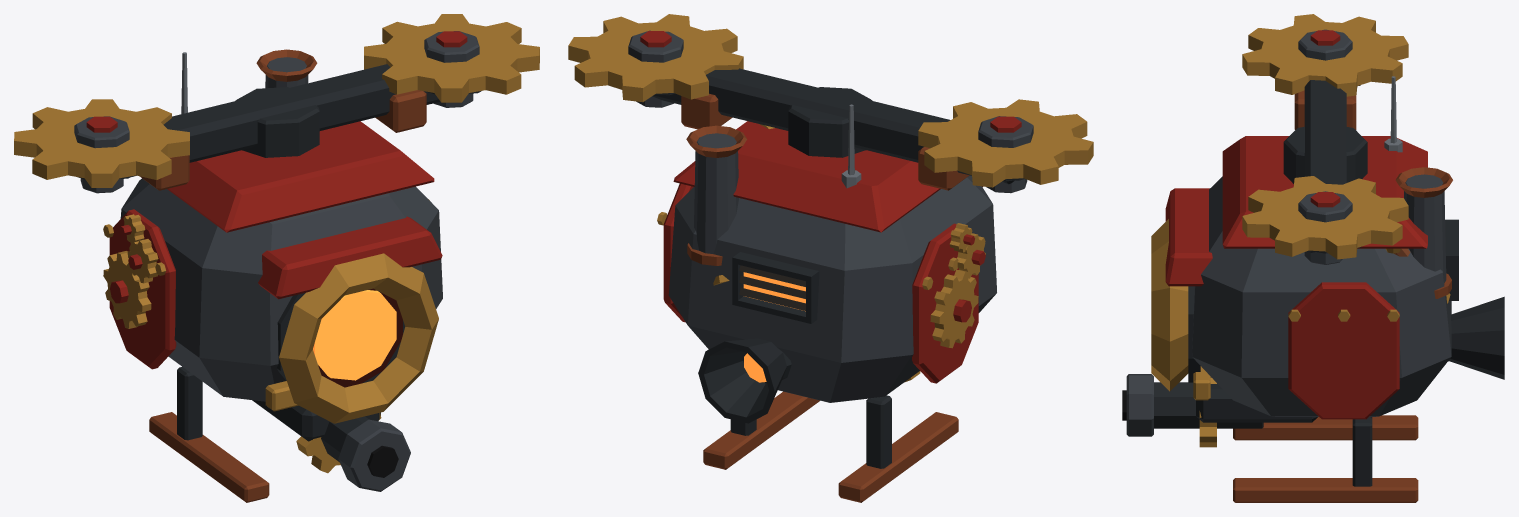
Rendered from gnat_cog.fbx.
The picture shows the model from 3 angles, left to right: view 1: azimuth 30°, elevation 25°; view 2: azimuth 150°, elevation 25°; view 3: azimuth 270°, elevation 25°; orthographic projection. The views are drawn at different scales.
Visible parts, largest first — view 1: Body, RotorR, RotorL, Eye; view 2: Body, RotorR, RotorL, Glow; view 3: Body, RotorL, RotorR.
Boxes of the visible parts, x1,y1,x2,y2 form: Body: (80, 49, 473, 502); RotorR: (14, 99, 189, 187); RotorL: (364, 14, 539, 102); Eye: (313, 290, 396, 380); Body: (636, 68, 1027, 502); RotorR: (918, 99, 1093, 187); RotorL: (568, 14, 743, 102); Glow: (743, 272, 805, 382); Body: (1122, 76, 1504, 502); RotorL: (1242, 176, 1408, 259); RotorR: (1242, 14, 1408, 96).
Size of the model in its own units: 4.45 by 3.25 by 3.1.
5 materials, 3 textured.
